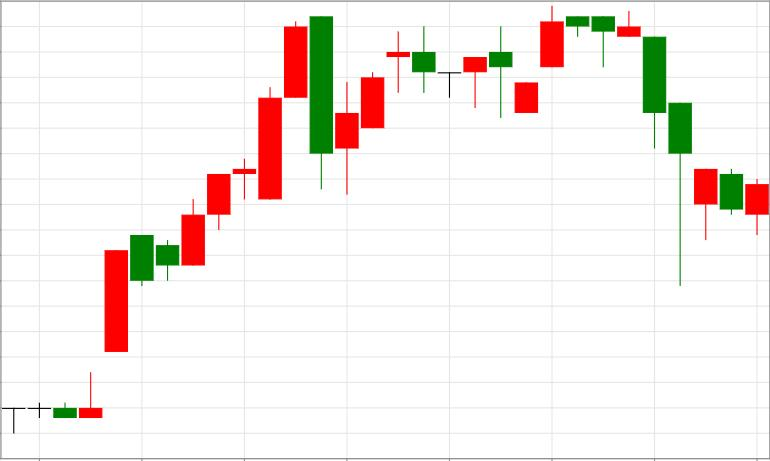bearish_engulfing_fall: (79, 16, 332, 418)
hammer_rise: (567, 10, 692, 285)
